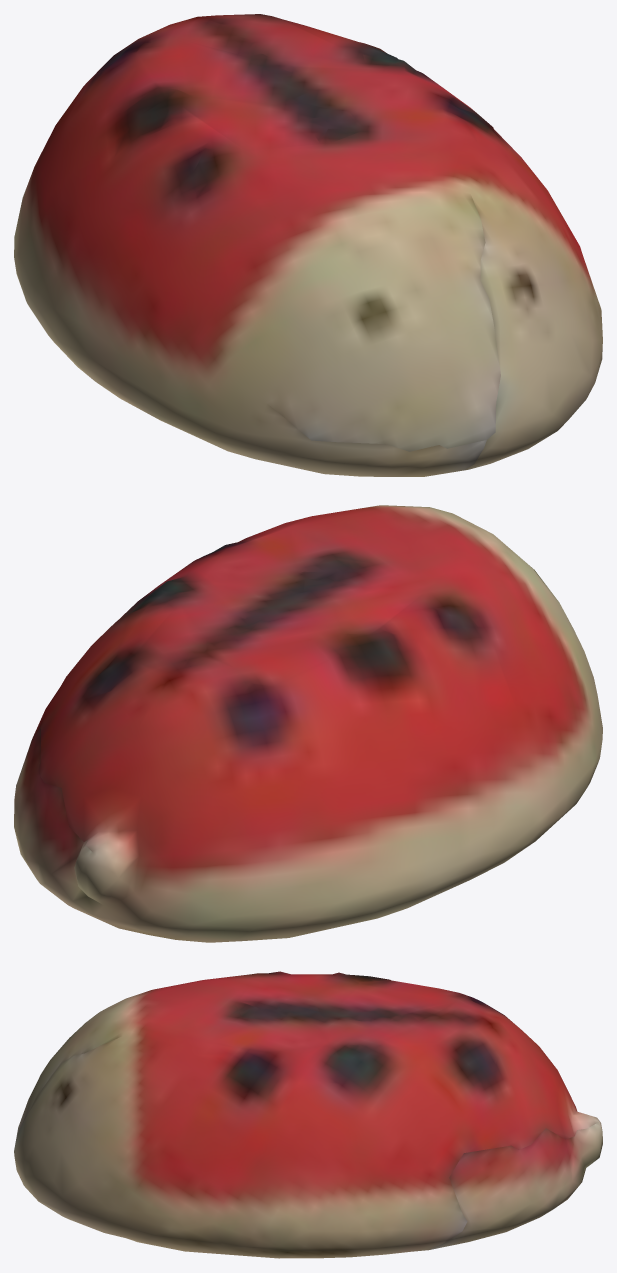
Rendered from LADYBUG_BEAD-medium.glb.
3 views of the same model, one above another, from view 1: azimuth 30°, elevation 25°; view 2: azimuth 150°, elevation 25°; view 3: azimuth 270°, elevation 25° (orthographic). The views are drawn at different scales.
Parts seen in each view (by area): view 1: LADYBUG_BEAD; view 2: LADYBUG_BEAD; view 3: LADYBUG_BEAD.
Boxes of the visible parts, left/top/right/bottom form: LADYBUG_BEAD: left=14, top=14, right=602, bottom=476; LADYBUG_BEAD: left=14, top=505, right=602, bottom=942; LADYBUG_BEAD: left=14, top=971, right=602, bottom=1258.
Size of the model in its own units: 0.0571 by 0.0302 by 0.0841.
Materials: 1 (1 with a texture image).
